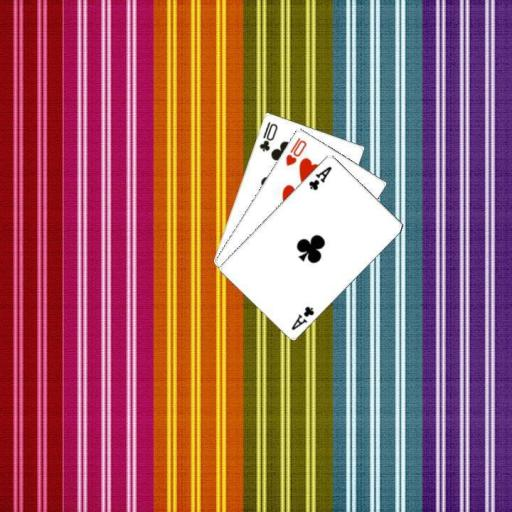card-corner: (282, 135, 308, 167), (256, 118, 279, 153), (288, 303, 316, 331), (306, 163, 333, 191)
